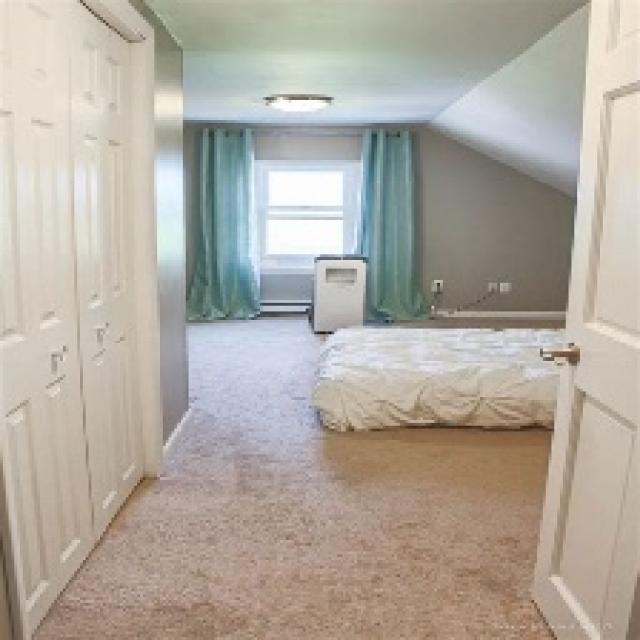Bed: (308, 323, 563, 431)
